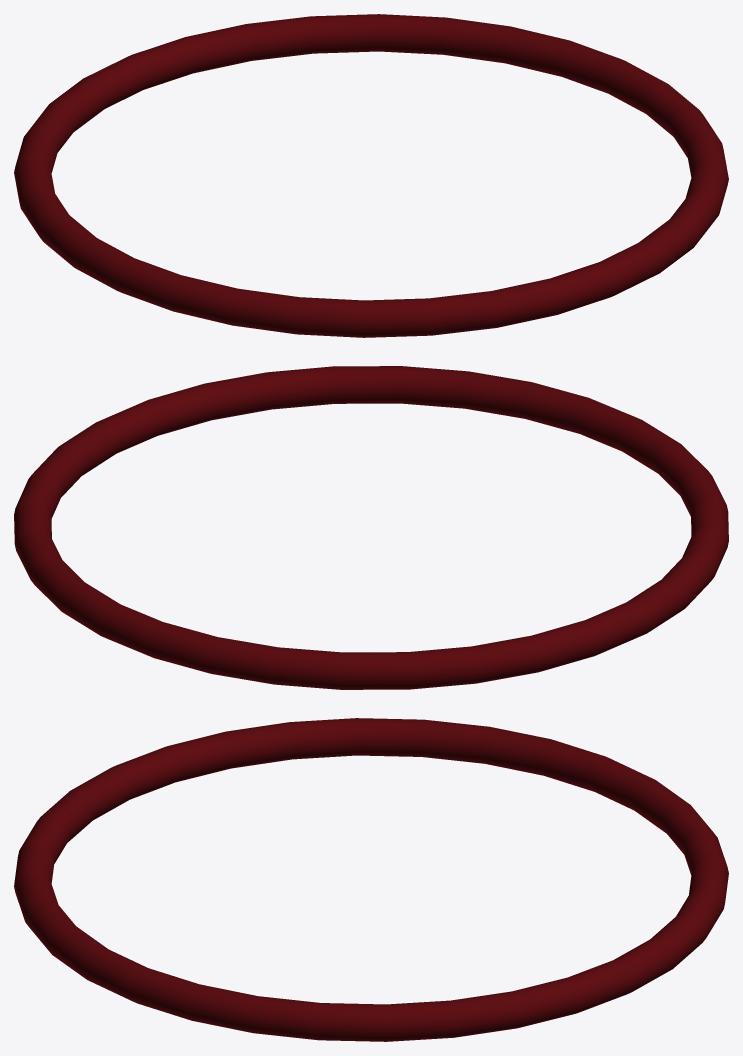
The picture shows the model from 3 angles, top to bottom: view 1: azimuth 30°, elevation 25°; view 2: azimuth 150°, elevation 25°; view 3: azimuth 270°, elevation 25°; orthographic projection.
Visible parts, largest first — view 1: Torus.001; view 2: Torus.001; view 3: Torus.001.
Part boxes in pixels (x1,y1,x2,y2): Torus.001: (14,14,728,337); Torus.001: (14,366,728,689); Torus.001: (14,718,728,1041).
Bounding box in the file's own units: 54.89 × 54.89 × 2.88.
